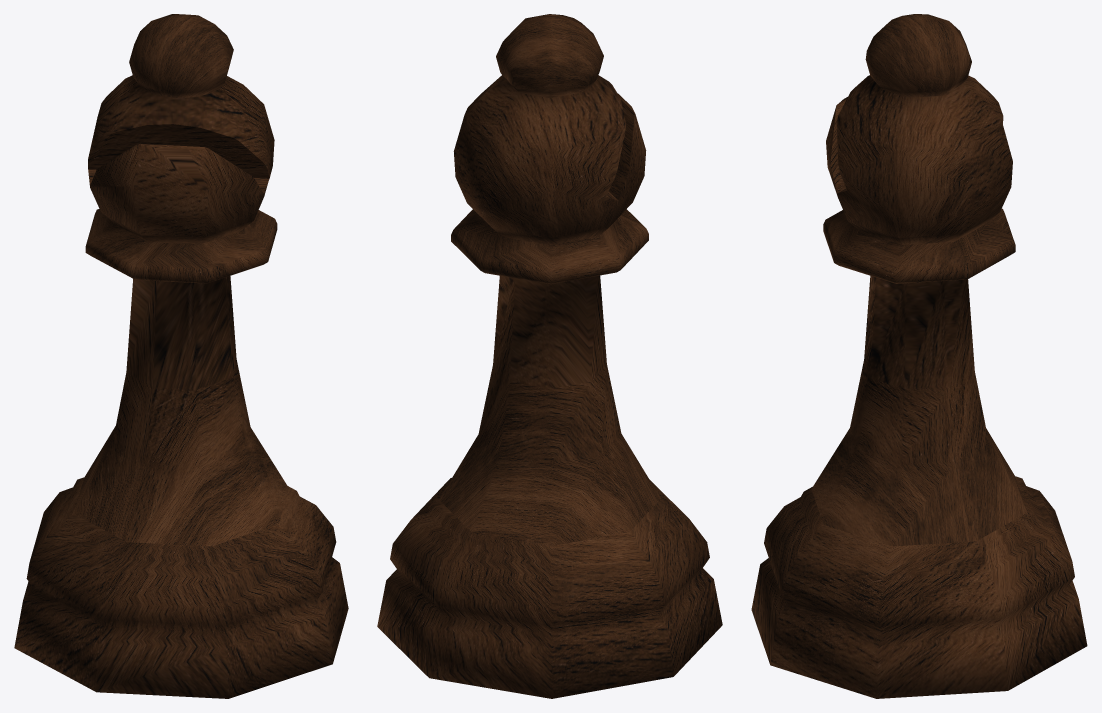
3 renders of one model, left to right at view 1: azimuth 30°, elevation 25°; view 2: azimuth 150°, elevation 25°; view 3: azimuth 270°, elevation 25°, orthographic.
Parts seen in each view (by area): view 1: BlackBishop.001; view 2: BlackBishop.001; view 3: BlackBishop.001.
Boxes of the visible parts, <box> form: BlackBishop.001: <box>14,14,348,698</box>; BlackBishop.001: <box>377,14,722,698</box>; BlackBishop.001: <box>751,14,1087,698</box>.
Size of the model in its own units: 0.0288 by 0.0576 by 0.0288.
Materials: 1 (1 with a texture image).
